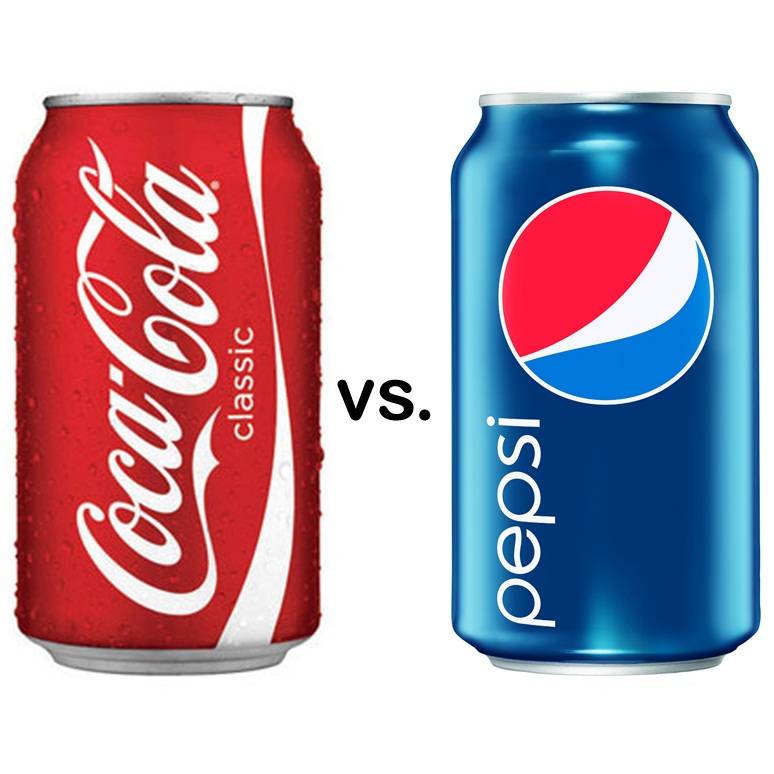pepsi: (495, 182, 714, 404), (495, 189, 714, 404)
